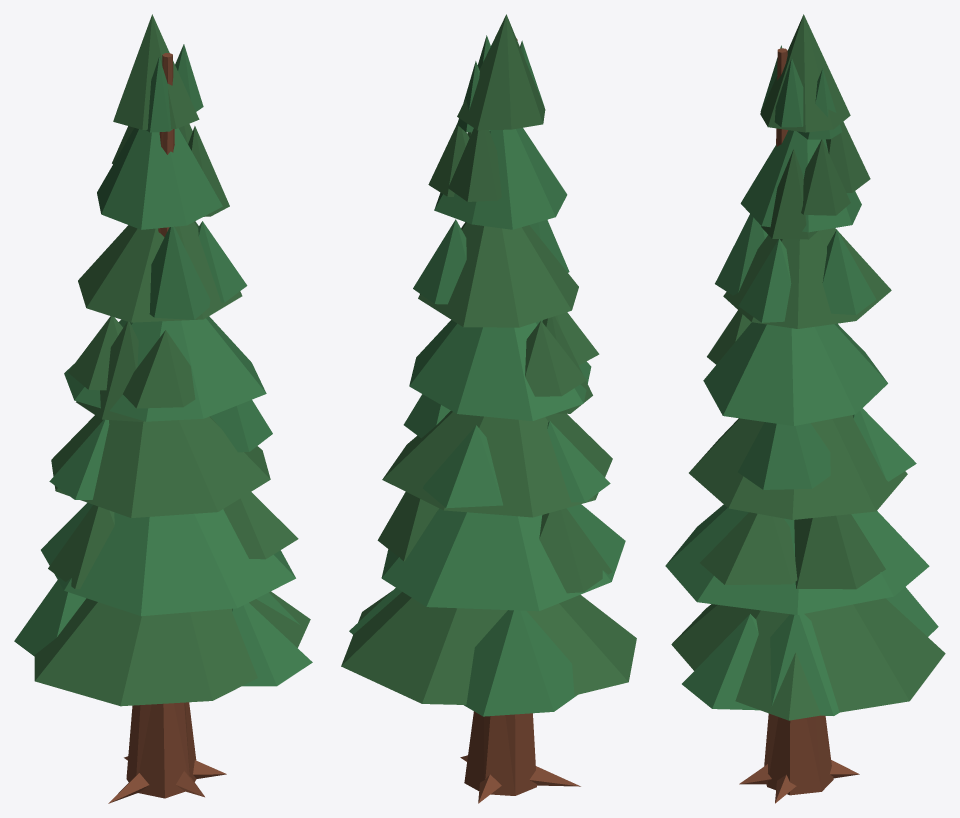
File: HS_LP_Tree_Cedar_01.fbx
The picture shows the model from 3 angles, left to right: view 1: azimuth 30°, elevation 25°; view 2: azimuth 150°, elevation 25°; view 3: azimuth 270°, elevation 25°; orthographic projection.
Visible parts, largest first — view 1: HS_LP_Tree_Cedar_01; view 2: HS_LP_Tree_Cedar_01; view 3: HS_LP_Tree_Cedar_01.
Part boxes in pixels (bbox=[...]): HS_LP_Tree_Cedar_01: bbox=[14, 14, 312, 803]; HS_LP_Tree_Cedar_01: bbox=[341, 14, 636, 803]; HS_LP_Tree_Cedar_01: bbox=[665, 14, 945, 803].
Size of the model in its own units: 231 by 627 by 209.
